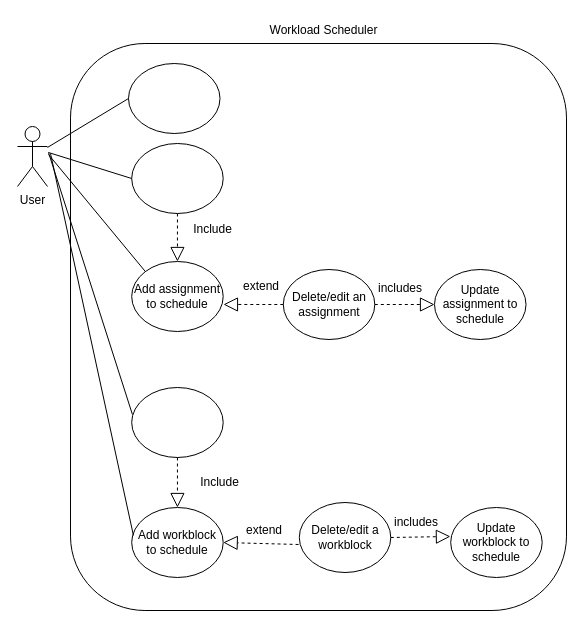
The diagram is 584 pixels wide and 628 high, and some of its shapes have lost their labels. The centre of each missing label's shape, as x and y in pixels:
"Input Assignment Details" goes at pixel 177 178.
"Input Workblock Details" goes at pixel 177 422.
"Start" goes at pixel 174 98.
